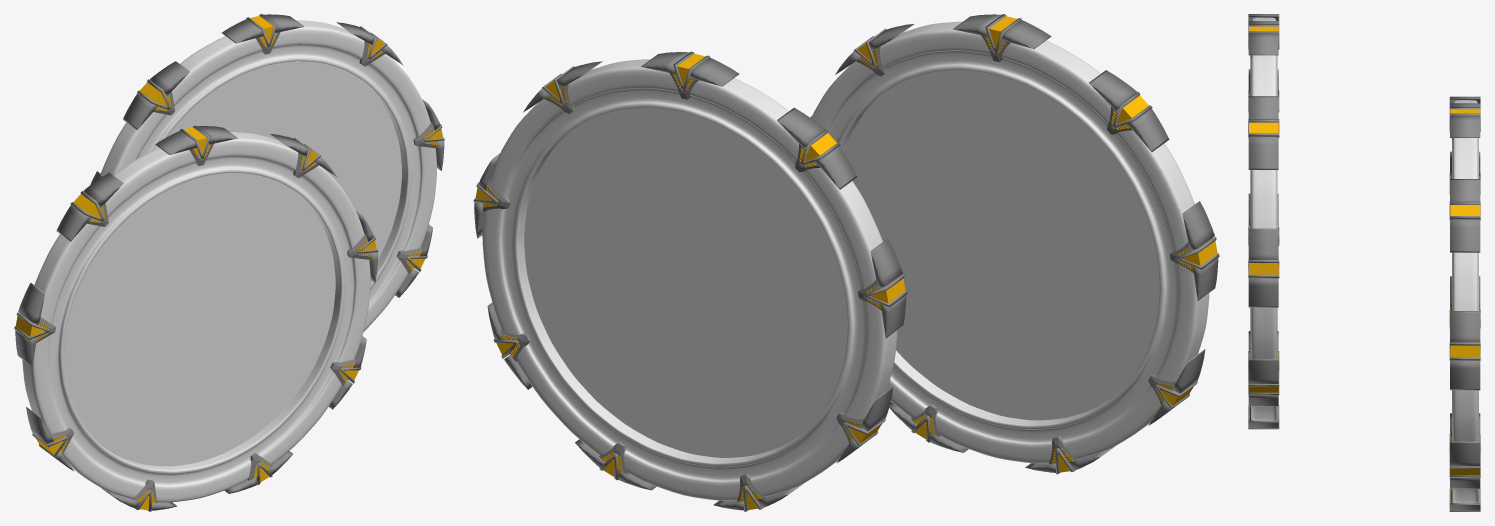
The model's file is stargateSimple.fbx.
The picture shows the model from 3 angles, left to right: view 1: azimuth 30°, elevation 25°; view 2: azimuth 150°, elevation 25°; view 3: azimuth 270°, elevation 25°; orthographic projection. The views are drawn at different scales.
Parts seen in each view (by area): view 1: Cylinder.002, Cylinder.003, Cylinder, Cylinder.001, Cube.040, Cube.028, Cube.044, Cube.002, Cube.068, Cube.036; view 2: Cylinder.001, Cylinder.002, Cylinder, Cylinder.003, Cube.028, Cube.040, Cube.044, Cube.024, Cube.068, Cube.002, Cube.036, Cube.032; view 3: Cylinder.003, Cylinder, Cube.008, Cube.060, Cube.004, Cube.064, Cube.056, Cube.012, Cube.068, Cube.002, Cube.011, Cube.067 (+7 smaller).
Boxes of the visible parts, bbox=[...] form: Cylinder.002: bbox=[64, 172, 335, 466]; Cylinder.003: bbox=[22, 131, 370, 502]; Cylinder: bbox=[101, 20, 436, 331]; Cylinder.001: bbox=[167, 61, 401, 258]; Cube.040: bbox=[56, 172, 123, 241]; Cube.028: bbox=[123, 61, 189, 129]; Cube.044: bbox=[15, 282, 45, 366]; Cube.002: bbox=[221, 14, 304, 43]; Cube.068: bbox=[155, 126, 237, 154]; Cube.036: bbox=[26, 407, 73, 471]; Cylinder.001: bbox=[524, 108, 847, 457]; Cylinder.002: bbox=[844, 70, 1159, 420]; Cylinder: bbox=[482, 59, 897, 500]; Cylinder.003: bbox=[811, 21, 1209, 463]; Cube.028: bbox=[777, 107, 856, 189]; Cube.040: bbox=[1089, 70, 1169, 151]; Cube.044: bbox=[1182, 201, 1218, 300]; Cube.024: bbox=[870, 238, 906, 338]; Cube.068: bbox=[953, 14, 1051, 48]; Cube.002: bbox=[641, 52, 739, 86]; Cube.036: bbox=[1148, 349, 1205, 425]; Cube.032: bbox=[836, 386, 893, 463]; Cylinder.003: bbox=[1250, 17, 1277, 420]; Cylinder: bbox=[1452, 100, 1478, 503]; Cube.008: bbox=[1450, 311, 1480, 390]; Cube.060: bbox=[1248, 228, 1278, 307]; Cube.004: bbox=[1450, 179, 1480, 252]; Cube.064: bbox=[1248, 96, 1278, 169]; Cube.056: bbox=[1248, 359, 1278, 406]; Cube.012: bbox=[1450, 441, 1480, 488]; Cube.068: bbox=[1248, 21, 1278, 55]; Cube.002: bbox=[1450, 103, 1480, 137]; Cube.011: bbox=[1450, 345, 1480, 356]; Cube.067: bbox=[1249, 122, 1278, 133].
Size of the model in its own units: 302 by 203 by 115.
